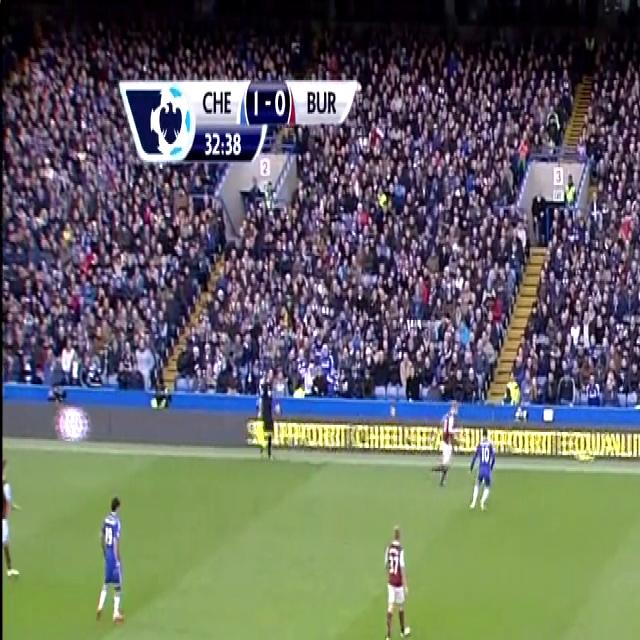referee: (250, 365, 282, 463)
soccer-player: (90, 483, 130, 632), (379, 517, 416, 640), (433, 390, 465, 490), (466, 425, 498, 520), (0, 455, 19, 590)
